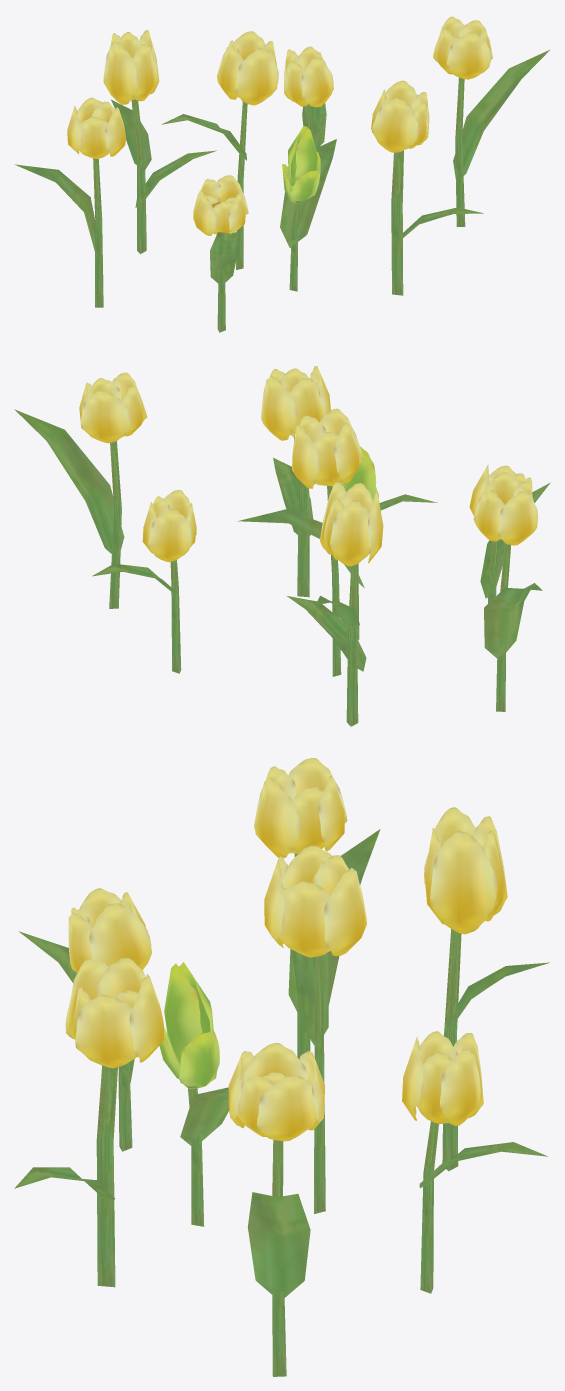
File: P_TulipsYellow.obj
3 renders of one model, top to bottom at view 1: azimuth 30°, elevation 25°; view 2: azimuth 150°, elevation 25°; view 3: azimuth 270°, elevation 25°, orthographic. The views are drawn at different scales.
Size of the model in its own units: 2.34 by 1.01 by 1.35.
